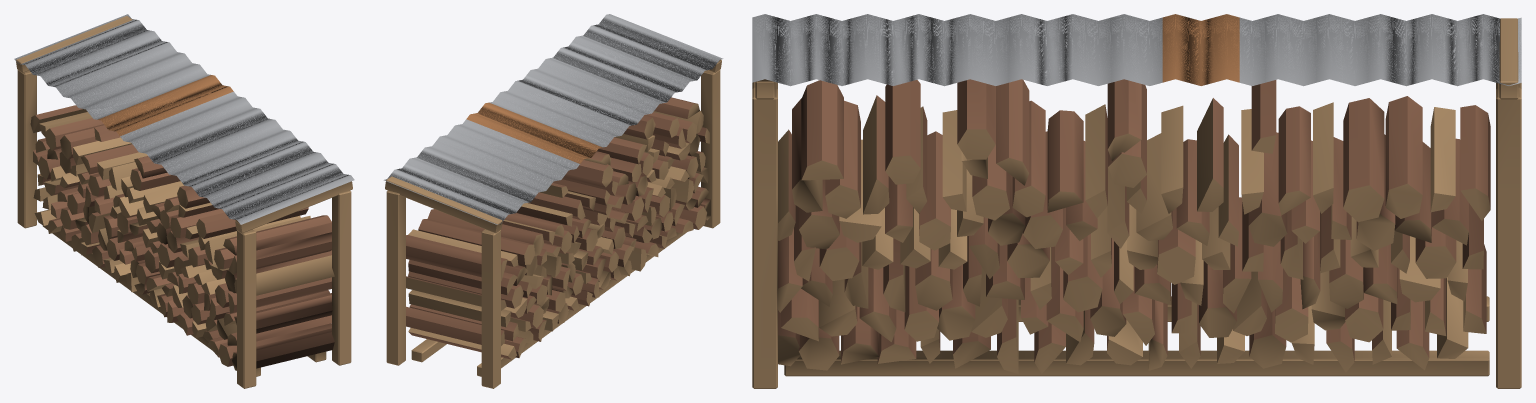
The model's file is woodpile.glb.
The picture shows the model from 3 angles, left to right: view 1: azimuth 30°, elevation 25°; view 2: azimuth 150°, elevation 25°; view 3: azimuth 270°, elevation 25°; orthographic projection. The views are drawn at different scales.
Parts seen in each view (by area): view 1: PART; view 2: PART; view 3: PART.
Boxes of the visible parts, x1=… form: PART: x1=14, y1=14, x2=354, y2=388; PART: x1=383, y1=14, x2=723, y2=388; PART: x1=752, y1=14, x2=1521, y2=388.
Size of the model in its own units: 0.696 by 1.08 by 2.4.
